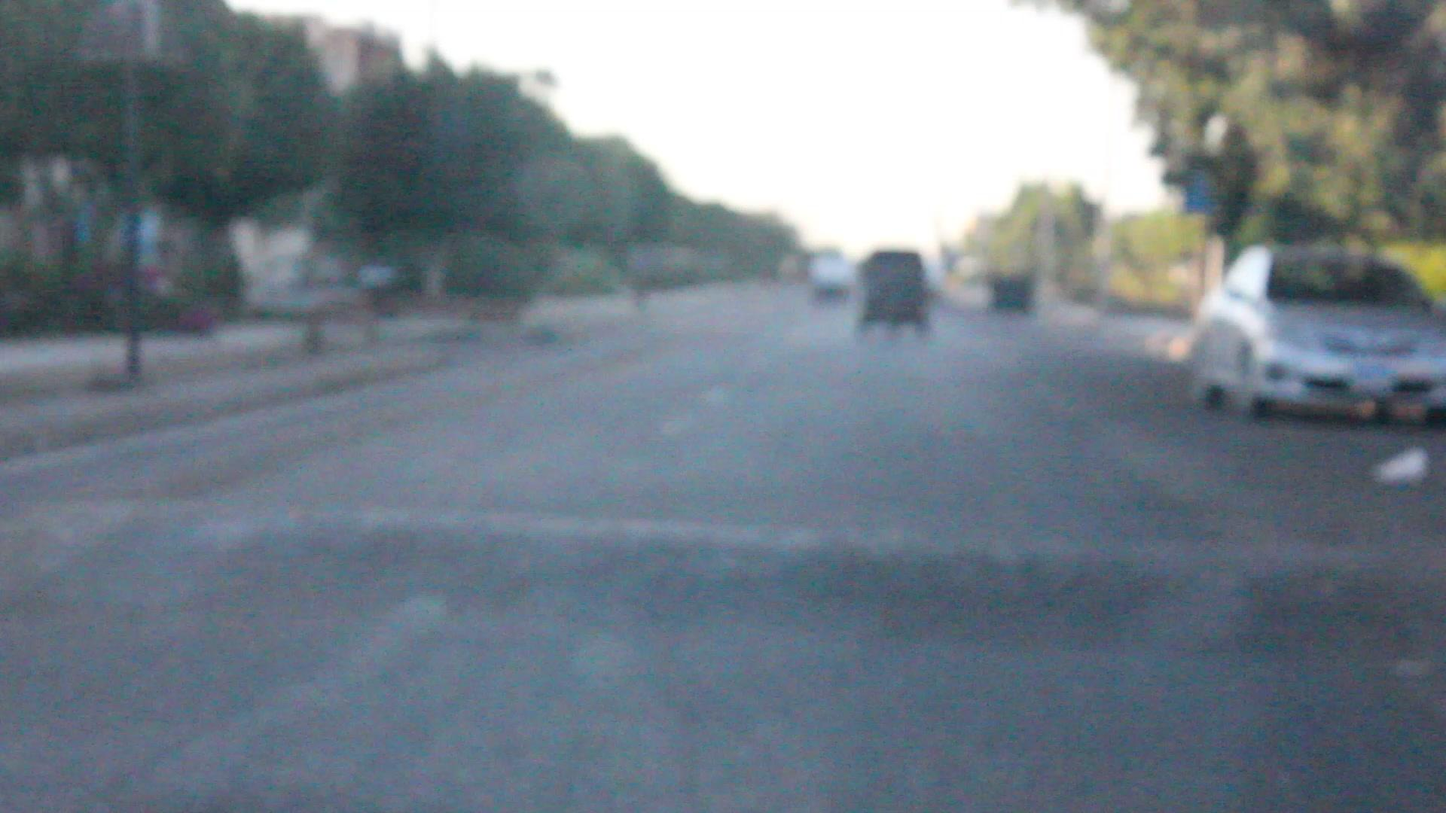Bump: (6, 503, 1445, 684)
